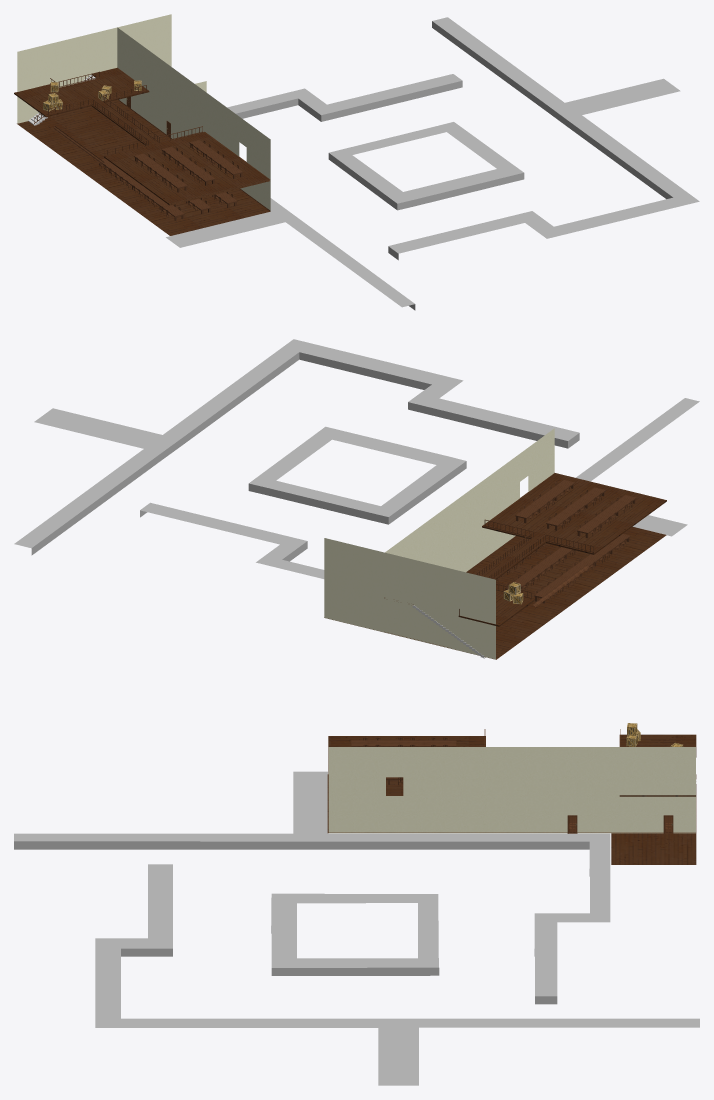
The model's file is EXP2_4.fbx.
The picture shows the model from 3 angles, top to bottom: view 1: azimuth 30°, elevation 25°; view 2: azimuth 150°, elevation 25°; view 3: azimuth 270°, elevation 25°; orthographic projection. The views are drawn at different scales.
Parts seen in each view (by area): view 1: base_Floor_5, upstairs_Floor5, pPlane10, pCube440, pCube307, pCube1592, pCube1568, pCube1633, pCube481; view 2: base_Floor_5, pCube307, pCube440, upstairs_Floor5, pPlane10, pCube1592, pCube481, pCube1568, pCube1607, pCube1633; view 3: base_Floor_5, pCube440, pPlane10, upstairs_Floor5, pCube1568.
Part boxes in pixels (x1=…): base_Floor_5: x1=166, y1=17, x2=699, y2=310; upstairs_Floor5: x1=14, y1=67, x2=270, y2=205; pPlane10: x1=17, y1=100, x2=270, y2=235; pCube440: x1=117, y1=27, x2=270, y2=210; pCube307: x1=17, y1=14, x2=171, y2=123; pCube1592: x1=101, y1=158, x2=184, y2=216; pCube1568: x1=134, y1=153, x2=187, y2=188; pCube1633: x1=161, y1=147, x2=215, y2=181; pCube481: x1=189, y1=140, x2=243, y2=175; base_Floor_5: x1=14, y1=339, x2=699, y2=578; pCube307: x1=324, y1=538, x2=495, y2=659; pCube440: x1=385, y1=428, x2=554, y2=572; upstairs_Floor5: x1=384, y1=473, x2=666, y2=626; pPlane10: x1=324, y1=526, x2=666, y2=659; pCube1592: x1=534, y1=534, x2=630, y2=597; pCube481: x1=515, y1=480, x2=574, y2=518; pCube1568: x1=577, y1=495, x2=636, y2=533; pCube1607: x1=505, y1=547, x2=572, y2=589; pCube1633: x1=546, y1=487, x2=605, y2=526; base_Floor_5: x1=14, y1=771, x2=699, y2=1085; pCube440: x1=328, y1=747, x2=695, y2=833; pPlane10: x1=327, y1=774, x2=696, y2=864; upstairs_Floor5: x1=328, y1=734, x2=696, y2=796; pCube1568: x1=351, y1=740, x2=456, y2=746.
Size of the model in its own units: 889 by 125 by 821.
